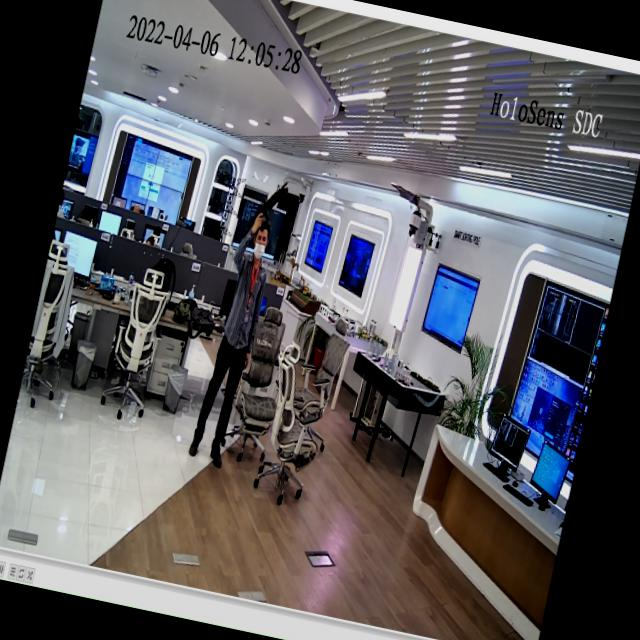long weapon: (240, 176, 295, 240)
